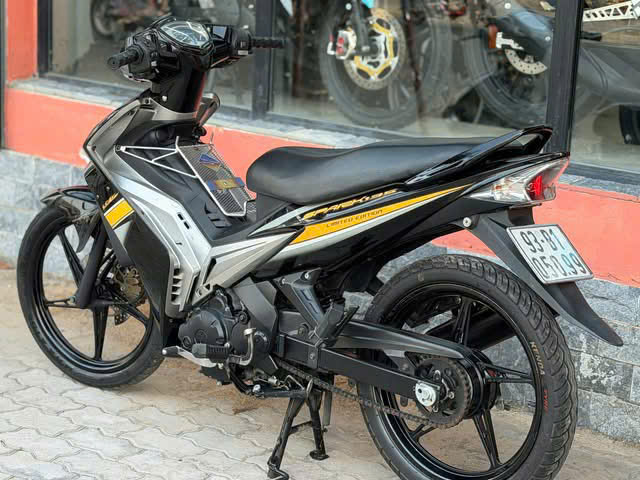Bien-so: (508, 224, 599, 287)
